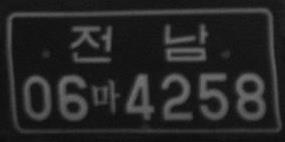0: (22, 74, 52, 121)
2: (160, 71, 194, 122)
4: (125, 73, 155, 121)
5: (198, 72, 228, 121)
6: (56, 74, 90, 121)
8: (233, 71, 267, 122)
마: (91, 78, 120, 115)
전남_D: (70, 22, 209, 63)
